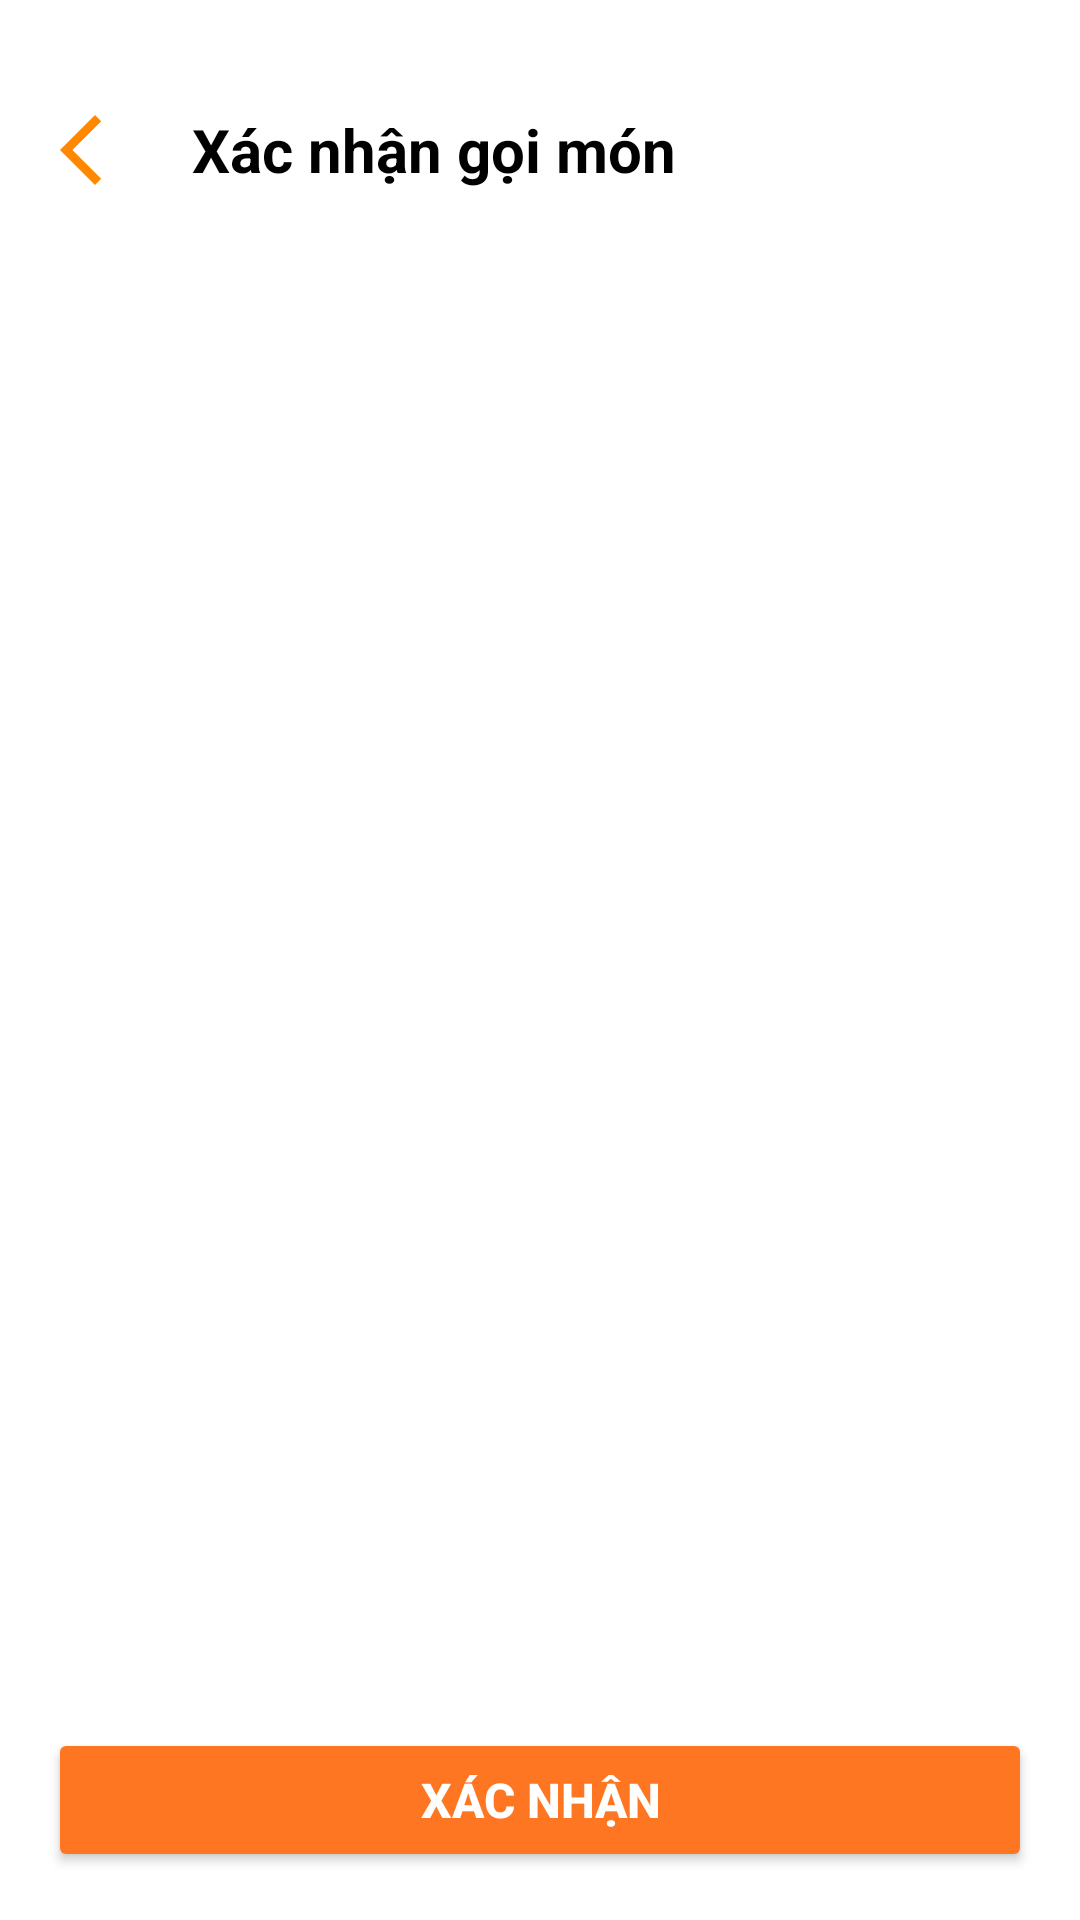

Named icons in this screenshot (1080px x 1920px) and their centers, (x,y):
Back: (80,150)
